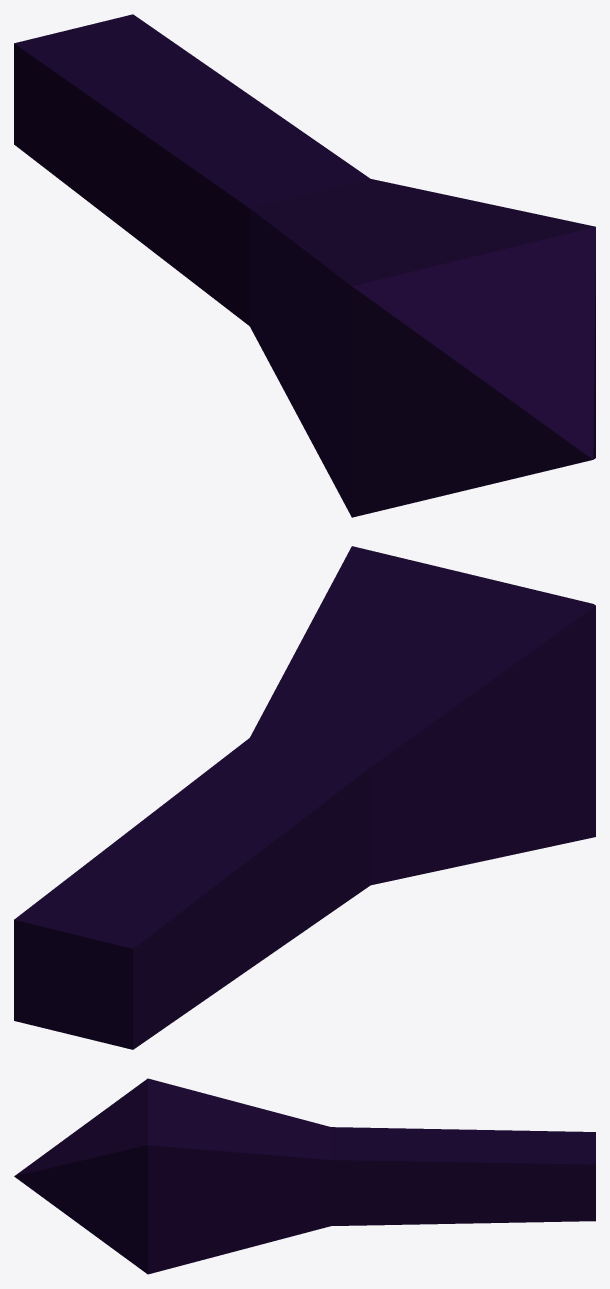
The model's file is U_BOXLOD.bgf.obj.
The picture shows the model from 3 angles, top to bottom: view 1: azimuth 30°, elevation 25°; view 2: azimuth 150°, elevation 25°; view 3: azimuth 270°, elevation 25°; orthographic projection. The views are drawn at different scales.
Parts seen in each view (by area): view 1: DUMMY; view 2: DUMMY; view 3: DUMMY.
Boxes of the visible parts, x1=… form: DUMMY: x1=14, y1=14, x2=595, y2=517; DUMMY: x1=14, y1=546, x2=595, y2=1049; DUMMY: x1=14, y1=1078, x2=595, y2=1274.
Bounding box in the file's own units: 0.543 × 0.492 × 2.
Materials: 1 (1 with a texture image).
